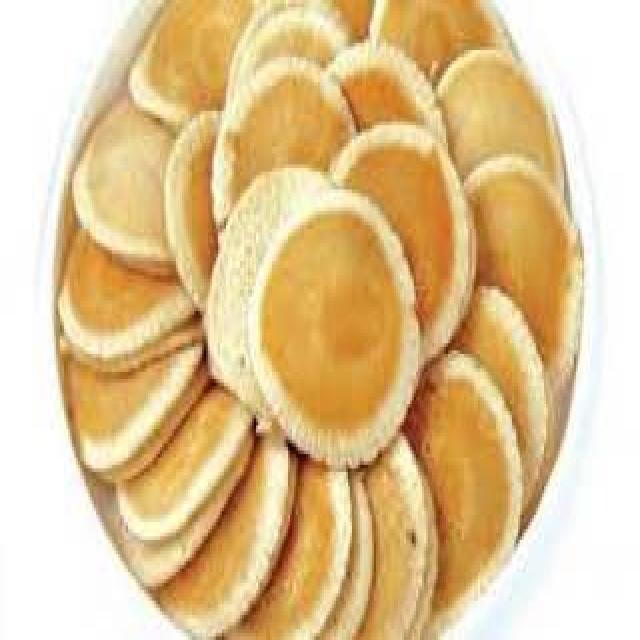ataif: (58, 0, 582, 640)
